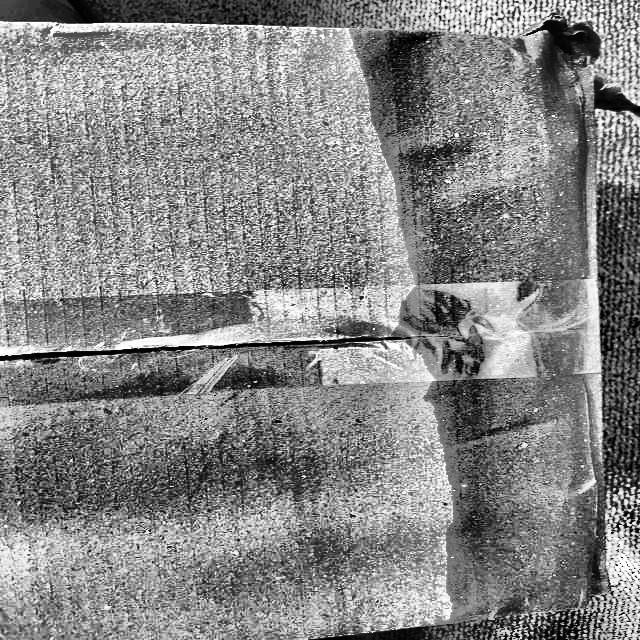box: (0, 13, 626, 633)
hole: (536, 15, 602, 66)
wet: (354, 17, 608, 621)
